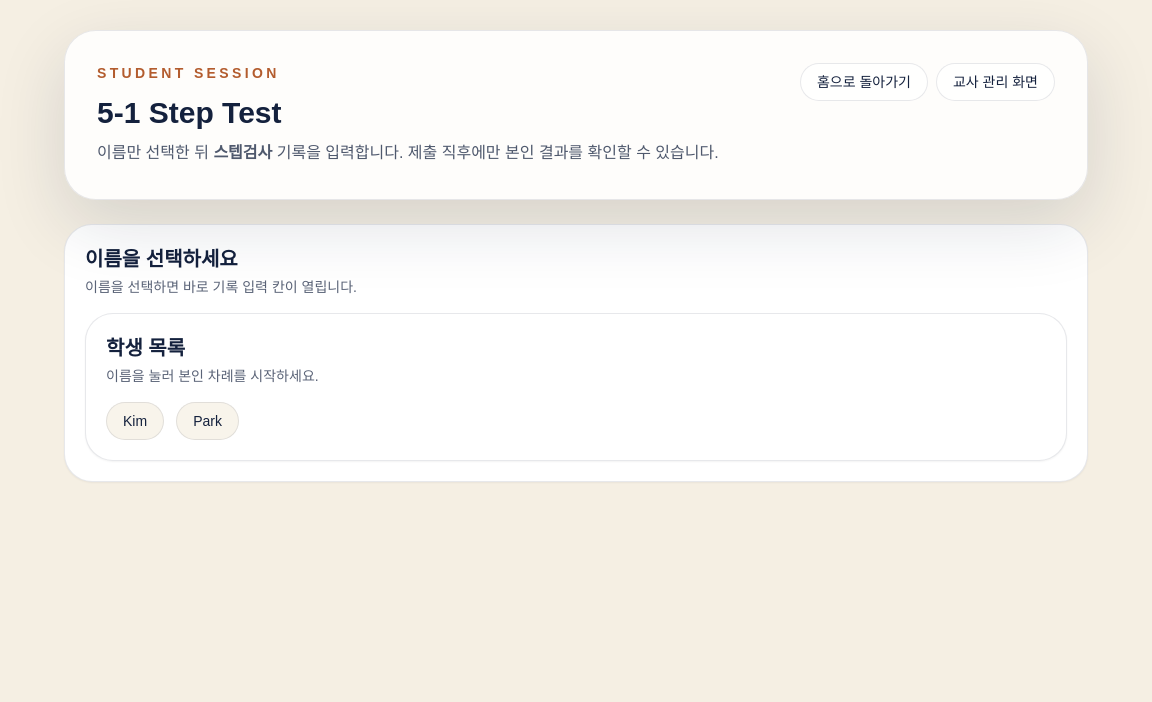
student session flow › renders three heart-rate inputs for a step-test session and stores the derived PEI score
Click the button "Kim" at [135, 421], box [106,402,164,440]
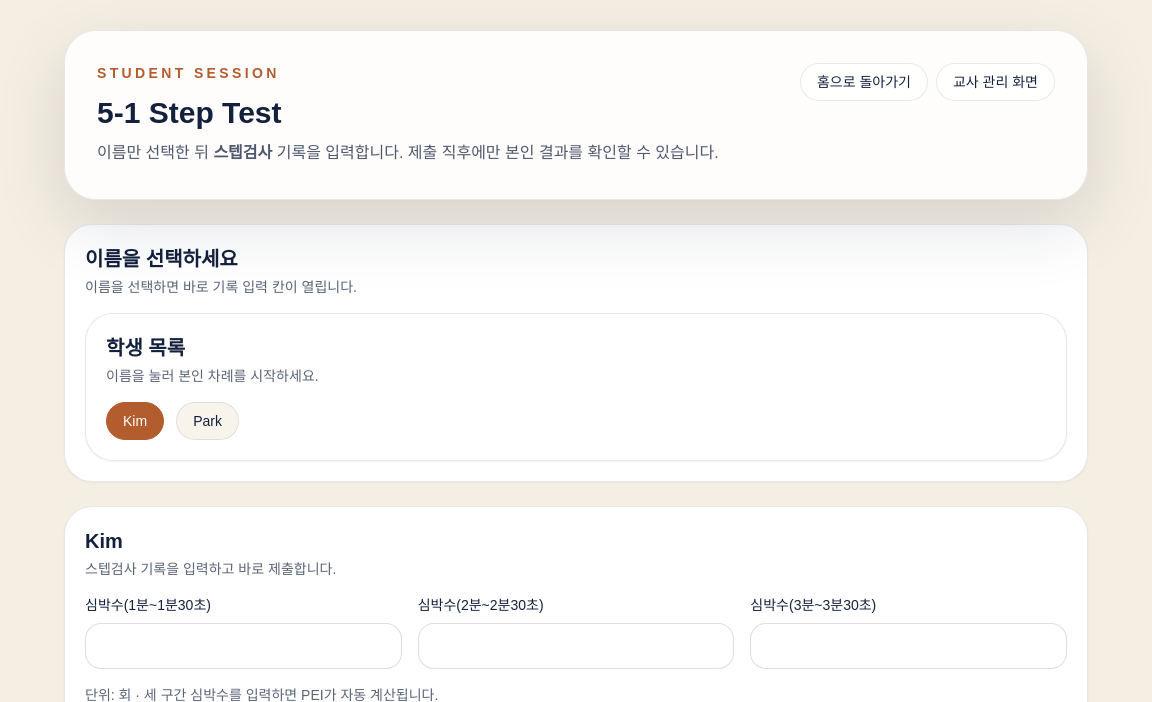
Type "50" into the number field labelled "심박수(1분~1분30초)" at [243, 646], box [85,623,402,669]
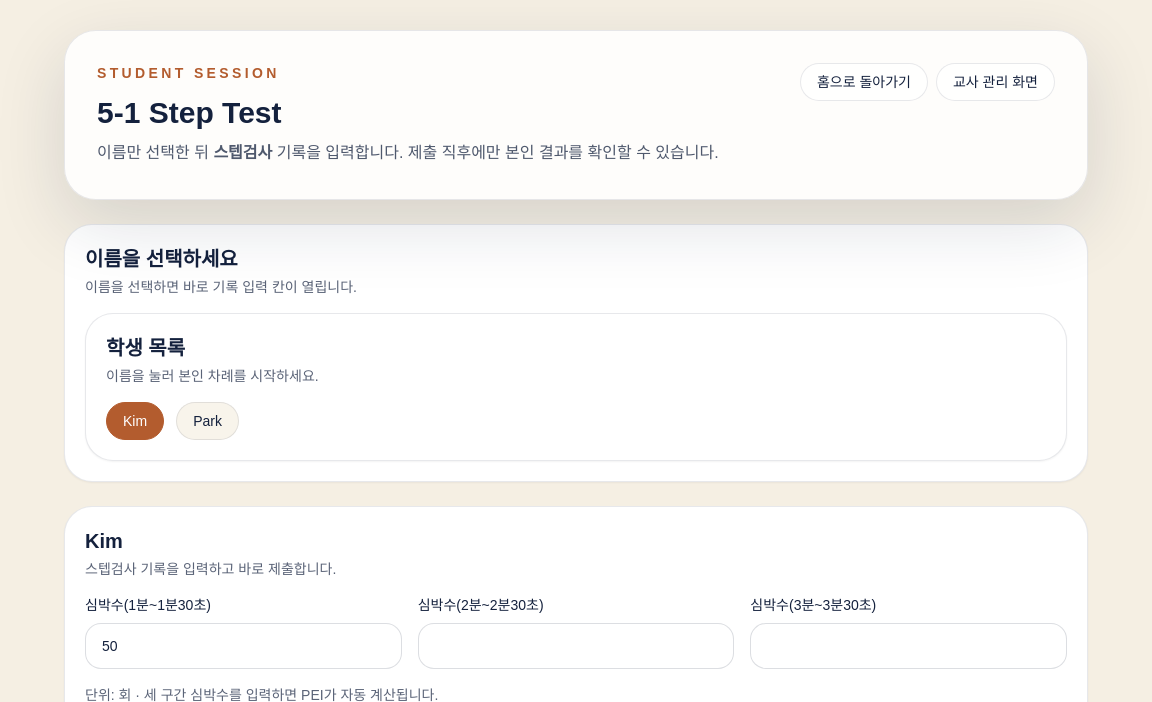
Type "50" into the number field labelled "심박수(2분~2분30초)" at [576, 646], box [418,623,734,669]
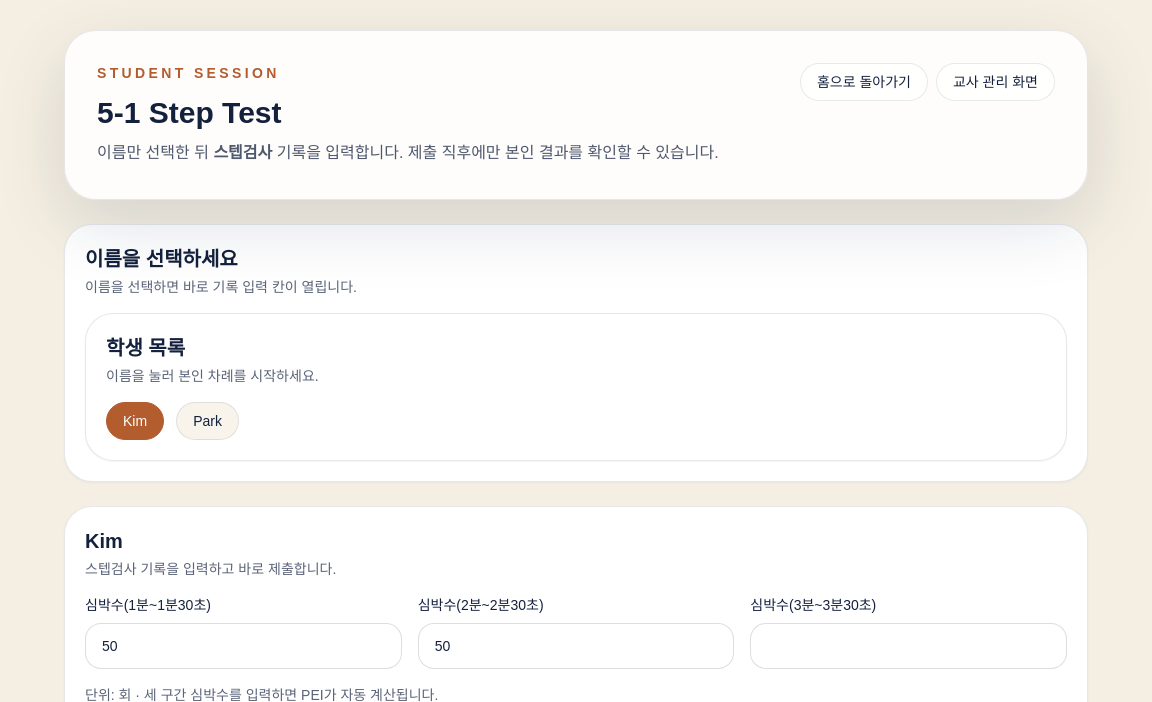
Type "49" into the number field labelled "심박수(3분~3분30초)" at [909, 646], box [750,623,1067,669]
(page scrolled)
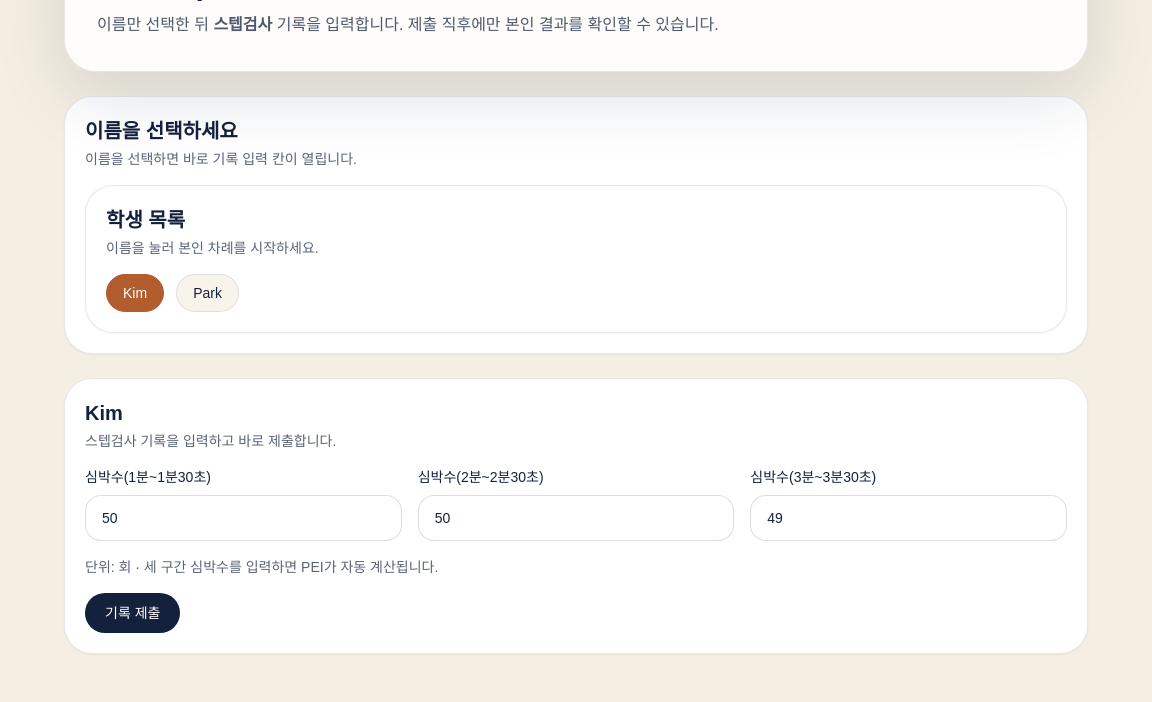
Click the button "기록 제출" at [133, 613], box [85,593,180,633]
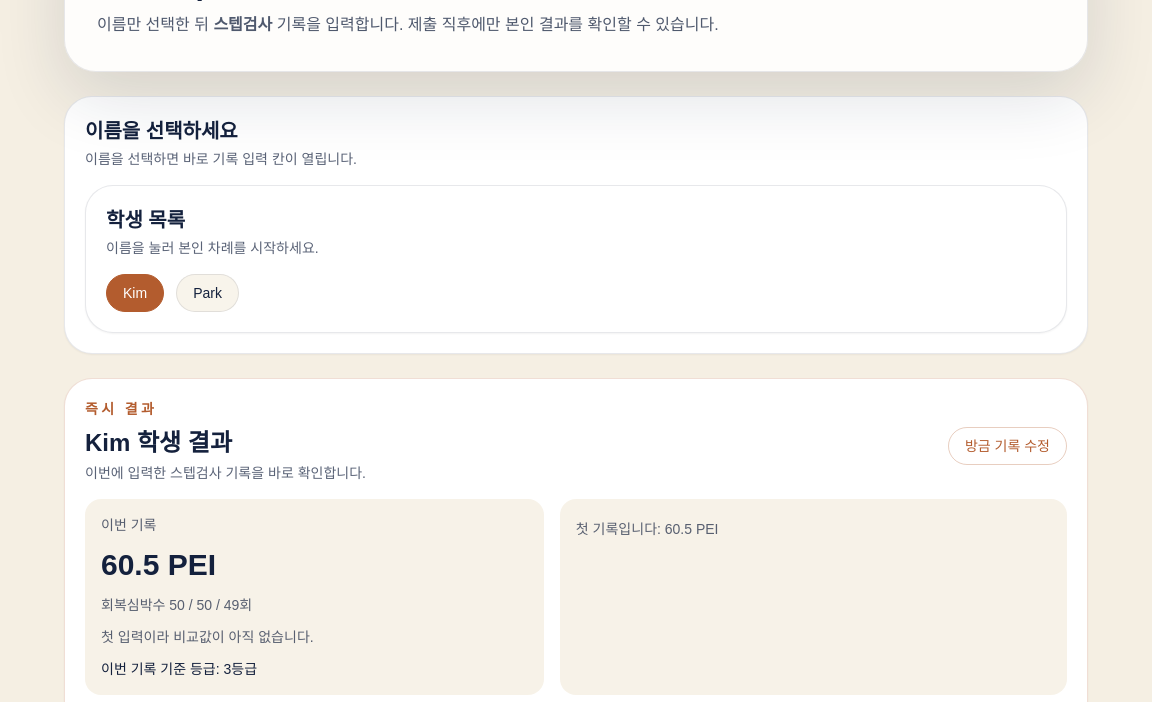
Check: the heading "Kim 학생 결과" is shown, box [85,429,232,456]
Check: the text "회복심박수 50 / 50 / 49회" is shown, box [101,597,252,613]
